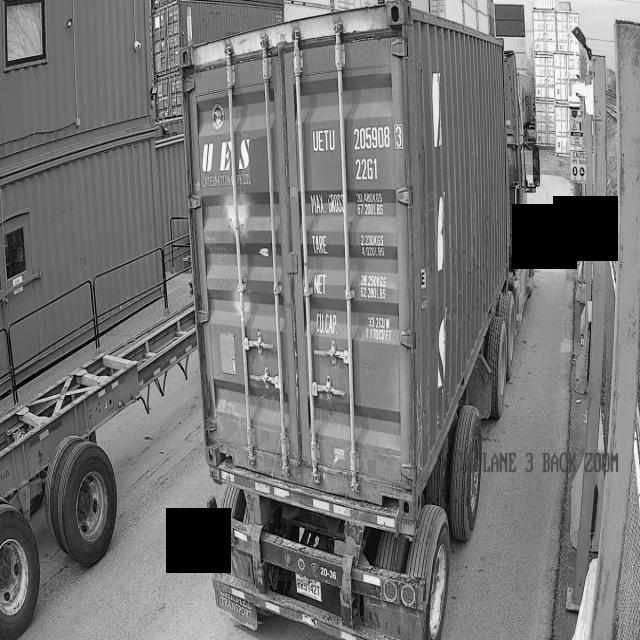container_company_logo: (201, 128, 268, 190)
container_number: (309, 114, 412, 182)
license_plate: (284, 569, 333, 605)
other_container_info: (309, 179, 407, 351)
truck_trailer: (0, 303, 197, 613)
truck_with_container: (181, 0, 539, 640)
